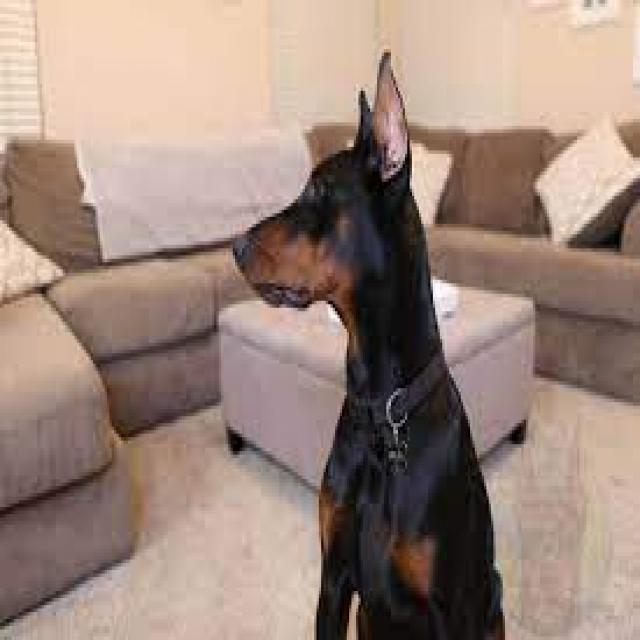Dog: (231, 45, 507, 640)
